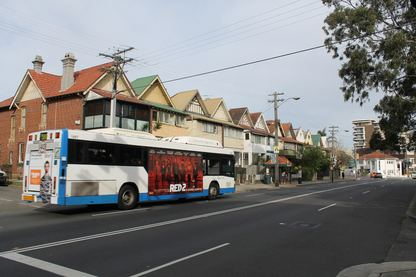bus: (20, 127, 236, 211)
